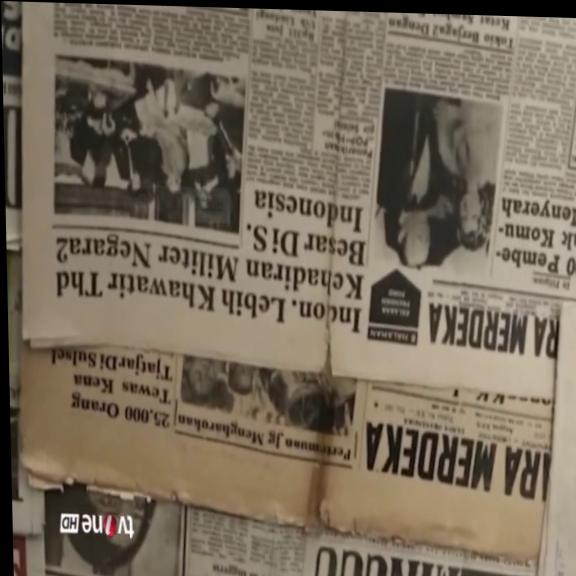Kertas: (21, 11, 331, 380), (319, 12, 576, 402)
